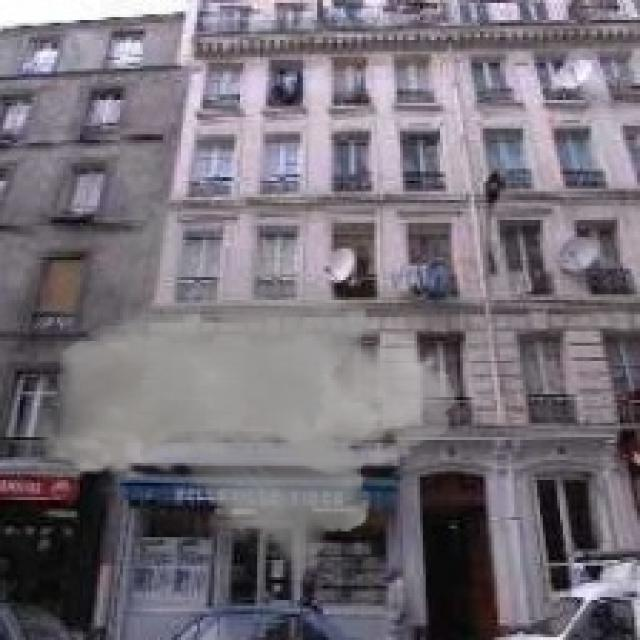smoke: (37, 183, 457, 583)
